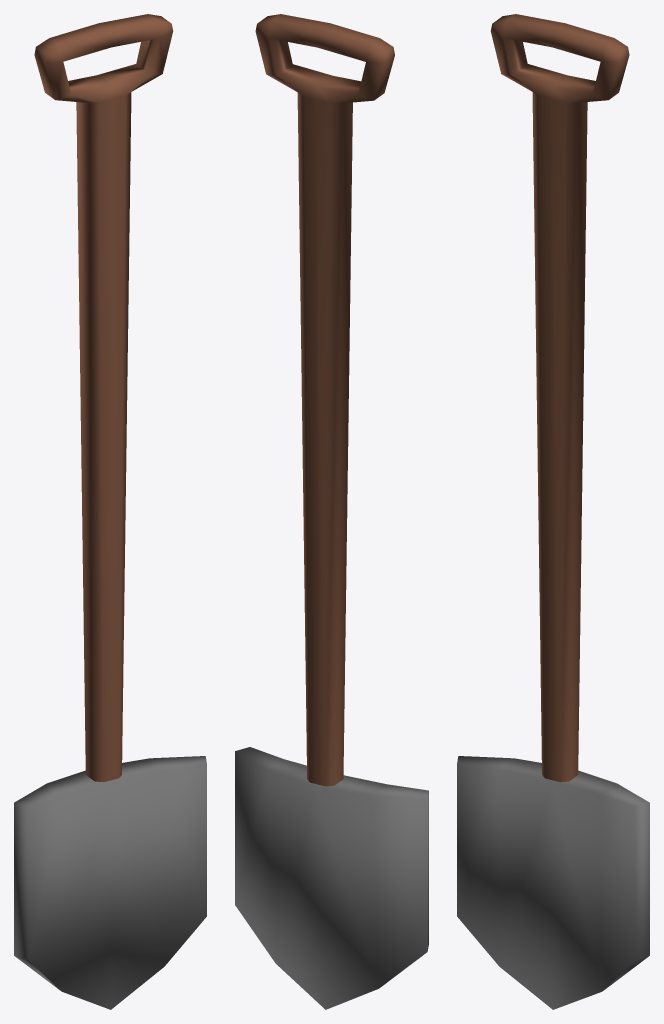
3 views of the same model, side by side, from view 1: azimuth 30°, elevation 25°; view 2: azimuth 150°, elevation 25°; view 3: azimuth 330°, elevation 25° (orthographic).
Parts seen in each view (by area): view 1: Pa_3; view 2: Pa_3; view 3: Pa_3.
Boxes of the visible parts, x1=… form: Pa_3: x1=14, y1=14, x2=206, y2=1009; Pa_3: x1=235, y1=14, x2=428, y2=1009; Pa_3: x1=457, y1=14, x2=649, y2=1009.
Size of the model in its own units: 0.0663 by 0.3063 by 1.49.
